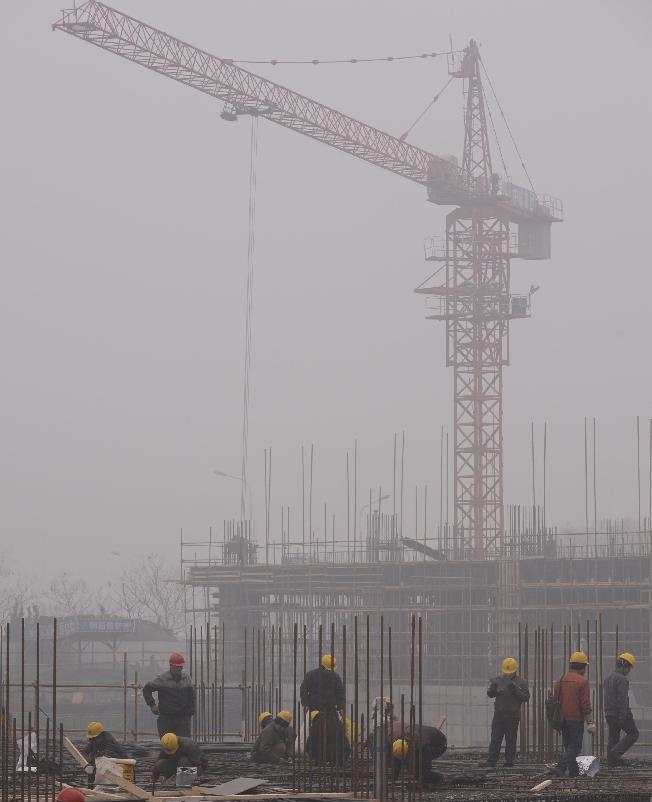person: (141, 651, 197, 773), (547, 650, 596, 775), (477, 656, 530, 768), (298, 652, 345, 756), (601, 651, 637, 769), (389, 723, 446, 787), (150, 731, 208, 788), (81, 720, 128, 784), (305, 709, 349, 765), (253, 709, 292, 766), (256, 710, 296, 763)
